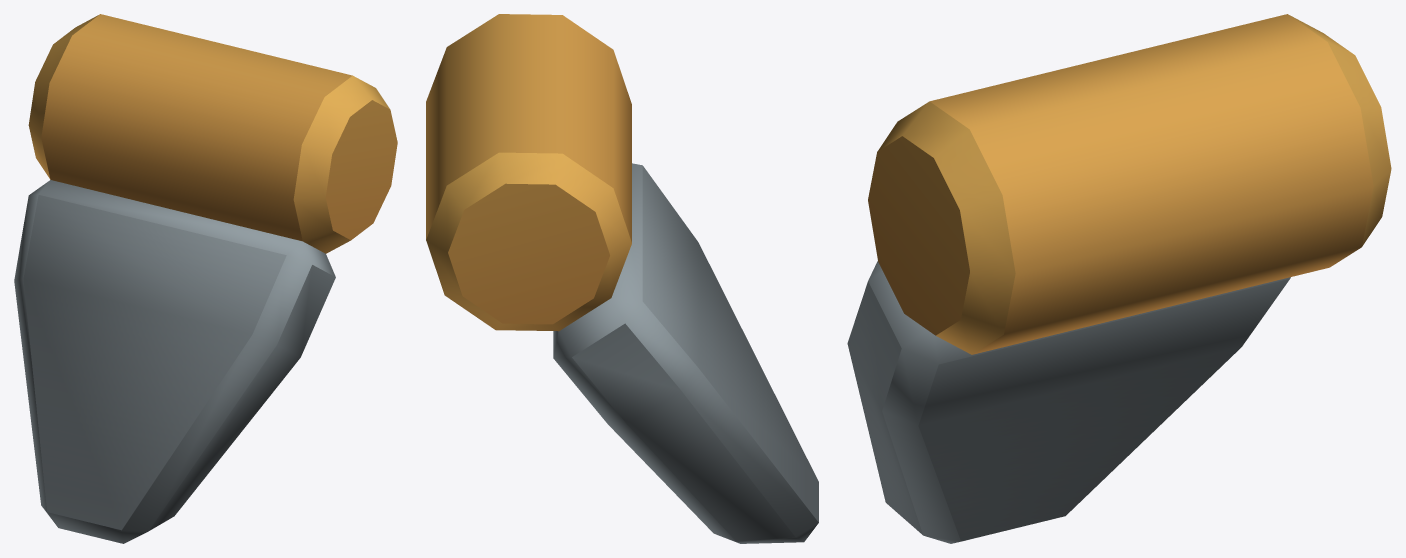
The model's file is turret_base_turret_footC.obj.
3 renders of one model, left to right at view 1: azimuth 30°, elevation 25°; view 2: azimuth 150°, elevation 25°; view 3: azimuth 270°, elevation 25°, orthographic. The views are drawn at different scales.
Parts seen in each view (by area): view 1: turret_footC; view 2: turret_footC; view 3: turret_footC.
Part boxes in pixels (left/top/right/bottom): turret_footC: left=14, top=14, right=397, bottom=543; turret_footC: left=426, top=14, right=818, bottom=543; turret_footC: left=847, top=14, right=1391, bottom=543.
Bounding box in the file's own units: 0.4186 × 0.4584 × 0.4046.
1 material, 1 textured.
